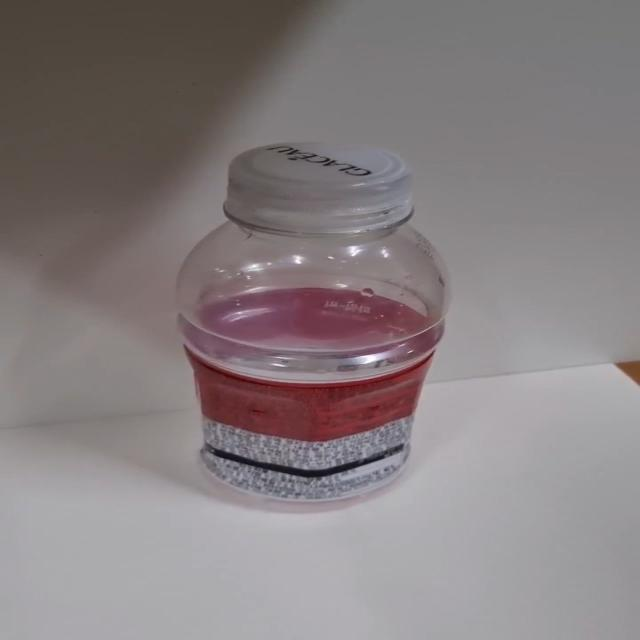Plastic: (173, 142, 453, 514)
